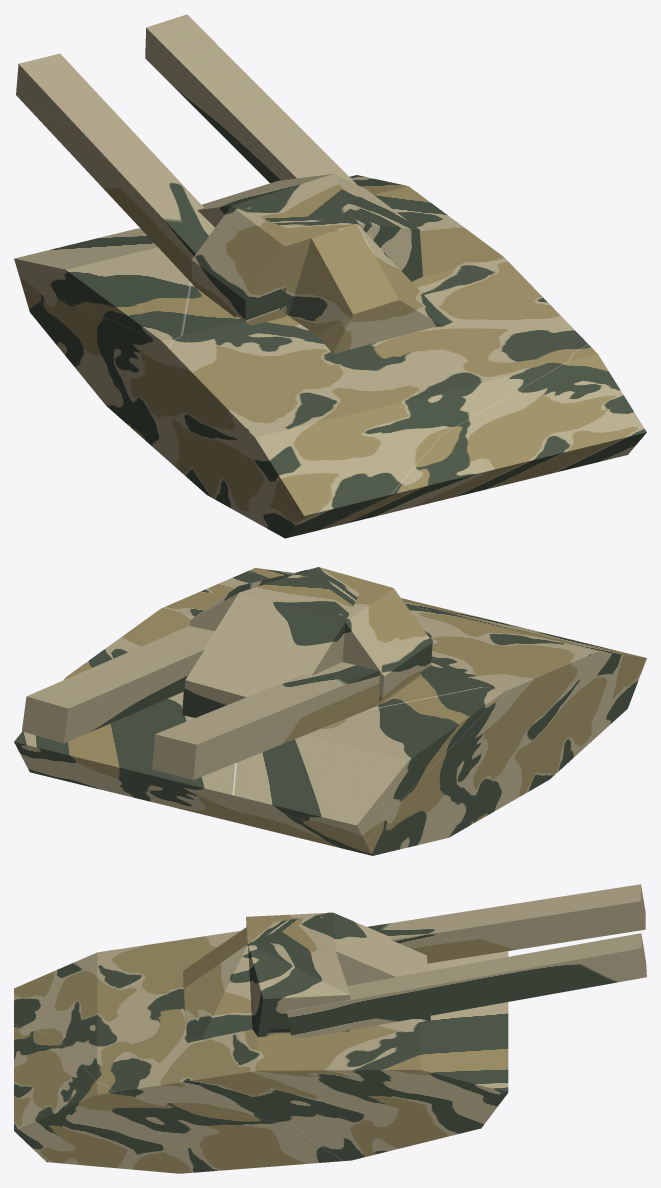
File: titan.fbx
3 renders of one model, top to bottom at view 1: azimuth 30°, elevation 25°; view 2: azimuth 150°, elevation 25°; view 3: azimuth 270°, elevation 25°, orthographic. The views are drawn at different scales.
Parts seen in each view (by area): view 1: chassis, turret; view 2: chassis, turret; view 3: chassis, turret.
Part boxes in pixels (x1,y1,x2,y2): chassis: (14,175,646,538); turret: (16,14,441,353); chassis: (14,568,646,855); turret: (22,567,432,779); chassis: (14,931,508,1173); turret: (183,884,646,1039).
Bounding box in the file's own units: 656 × 403 × 1231.
2 materials, 2 textured.
